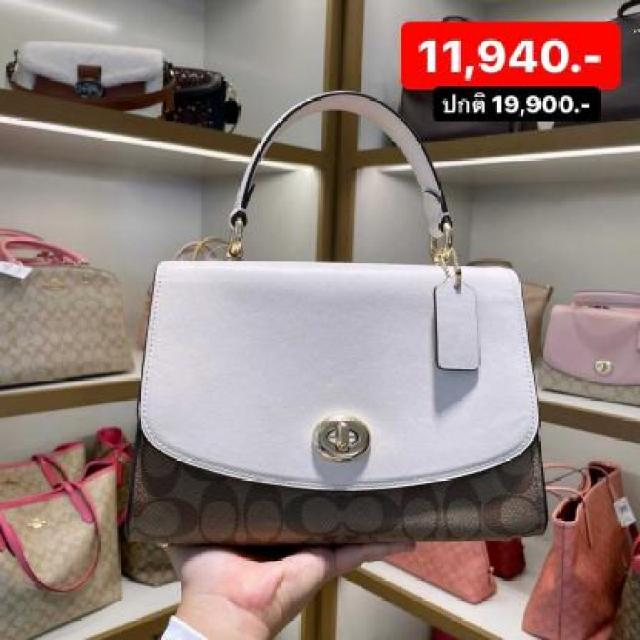Bag: (124, 72, 601, 586), (0, 389, 143, 640), (0, 209, 152, 403), (514, 449, 638, 640), (512, 258, 640, 422)
